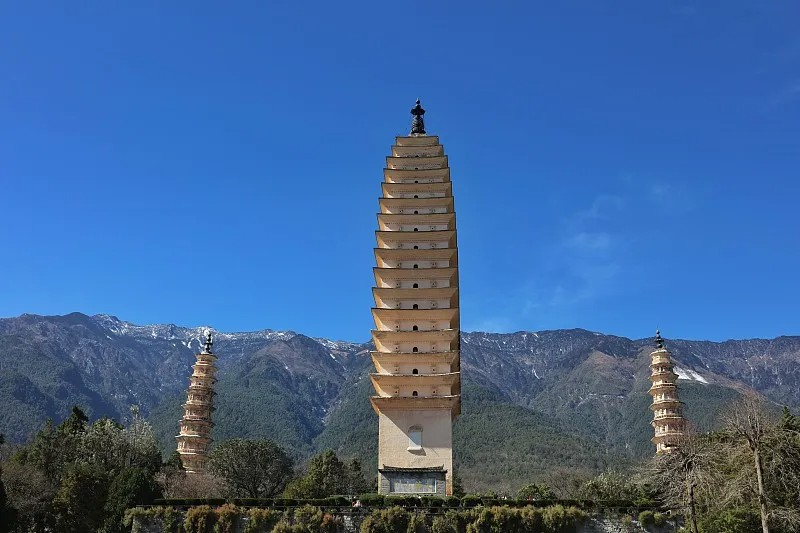ThreePagoda: (370, 98, 461, 494)
